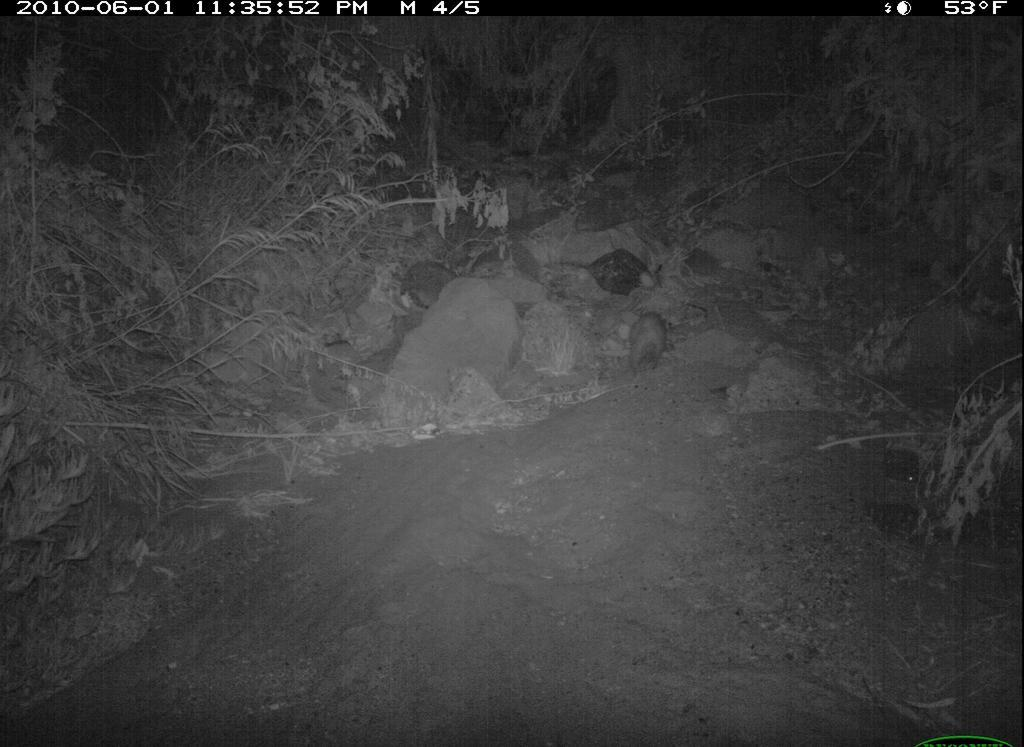opossum: (605, 307, 685, 387)
